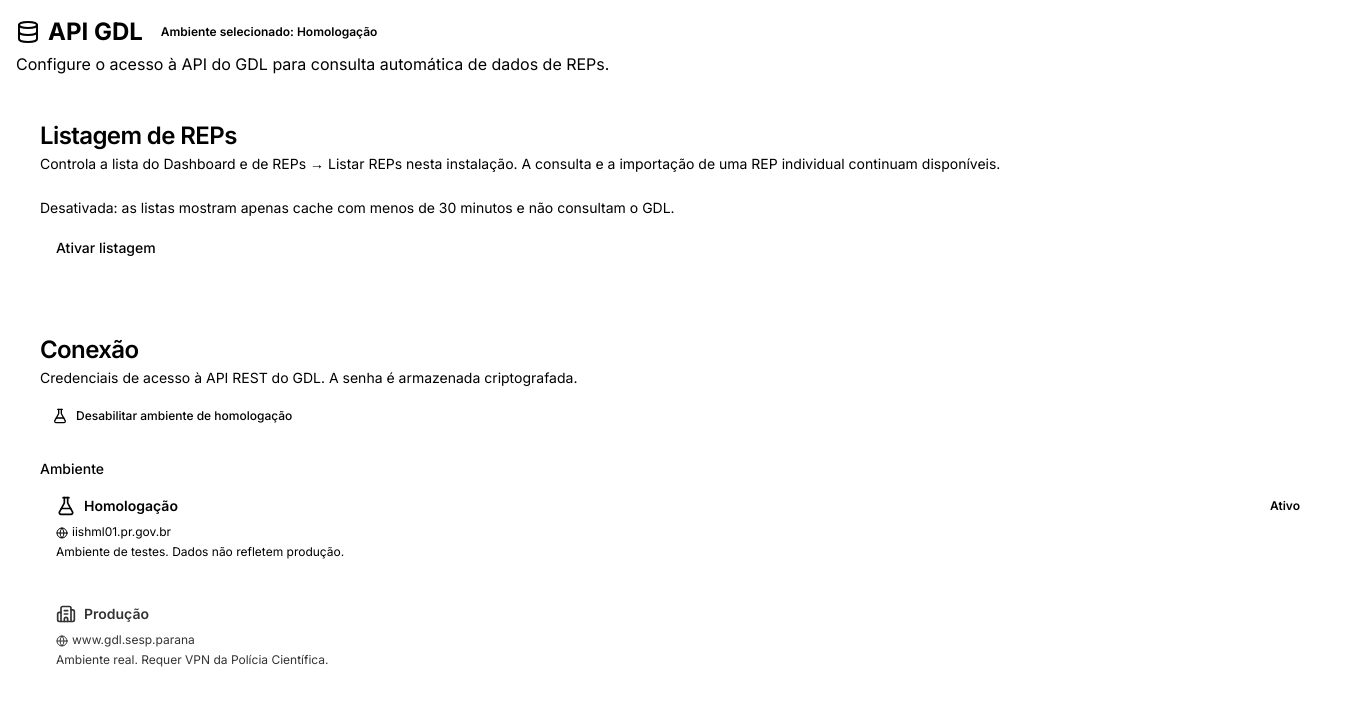
Test: GdlConfigPage › seleciona Produção ao desligar Homologação e preserva as credenciais de teste
Expected: the text "Ambiente selecionado: Homologação" is shown, [151,22,387,42]
Step 1. Click the button "Desabilitar ambiente de homologação" → (172, 416), box [40,400,304,432]
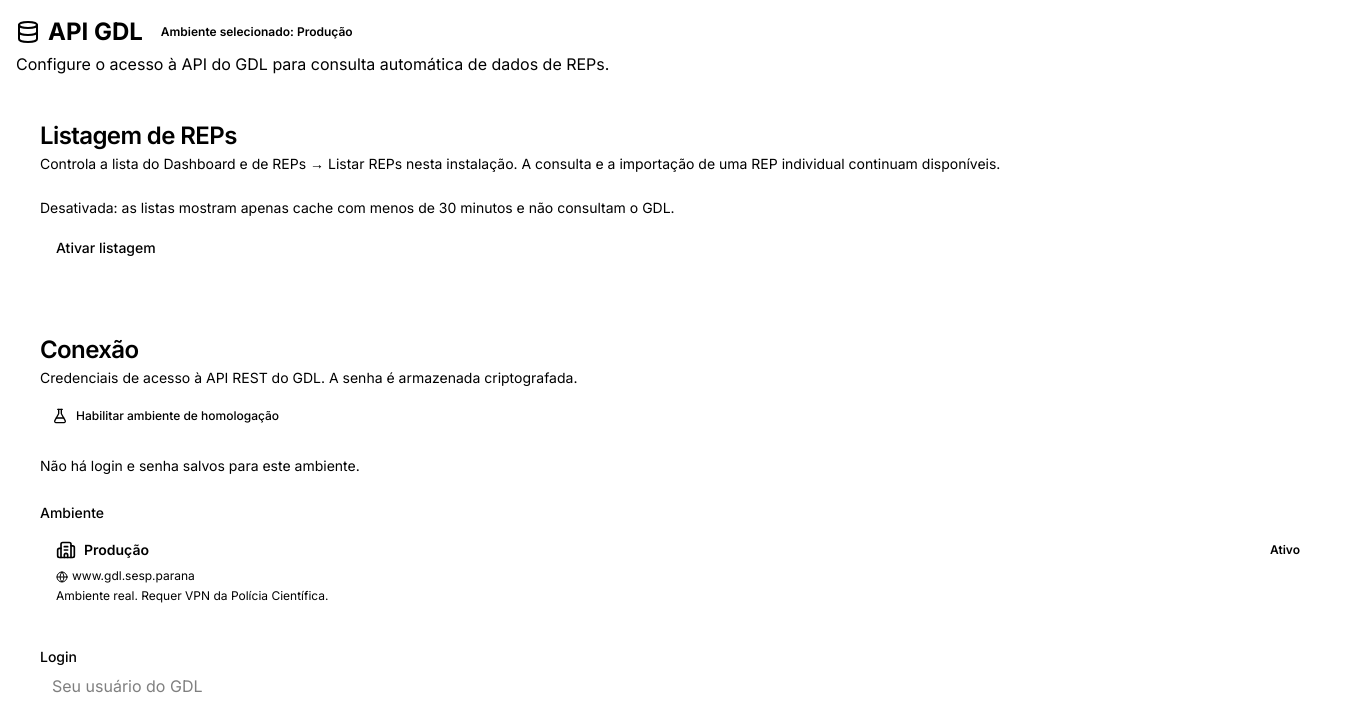
Now the text "Ambiente selecionado: Produção" is shown, box [151,22,363,42]
